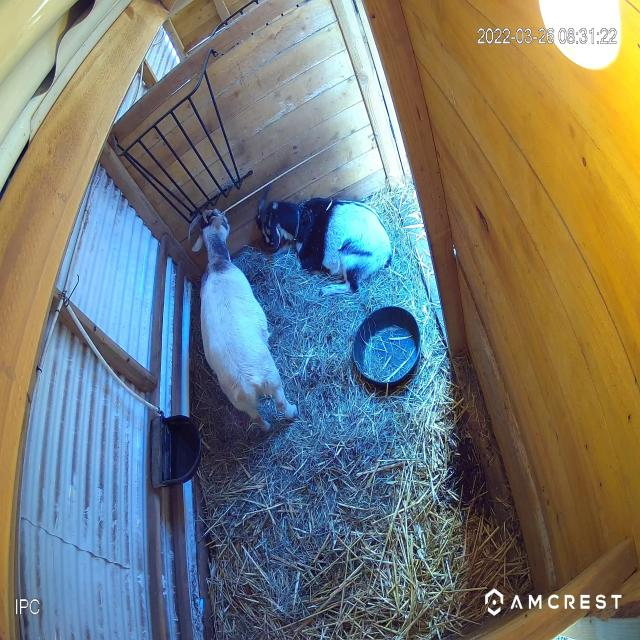goat: (181, 199, 307, 435), (252, 182, 398, 286)
